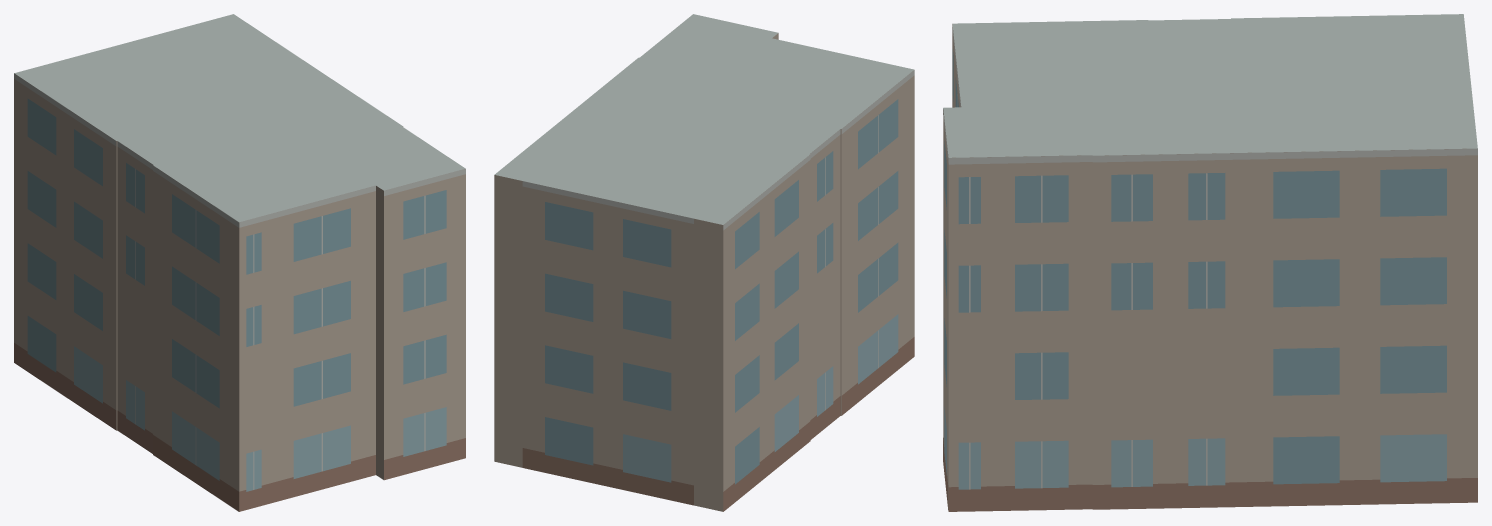
Rendered from survey-upis-32613560.glb.
The picture shows the model from 3 angles, left to right: view 1: azimuth 30°, elevation 25°; view 2: azimuth 150°, elevation 25°; view 3: azimuth 270°, elevation 25°; orthographic projection. The views are drawn at different scales.
Parts seen in each view (by area): view 1: survey-upis-32613560.tmp; view 2: survey-upis-32613560.tmp; view 3: survey-upis-32613560.tmp.
Boxes of the visible parts, x1=… form: survey-upis-32613560.tmp: x1=14, y1=14, x2=465, y2=511; survey-upis-32613560.tmp: x1=494, y1=14, x2=914, y2=511; survey-upis-32613560.tmp: x1=943, y1=14, x2=1477, y2=511.
Size of the model in its own units: 11.16 by 12.8 by 17.52.
